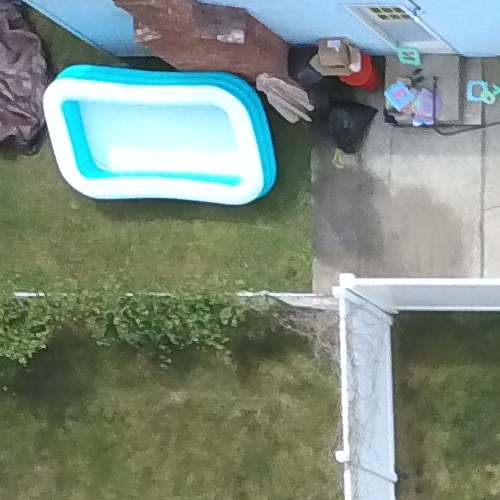tarp: (1, 6, 66, 151)
toy: (39, 61, 284, 217)
